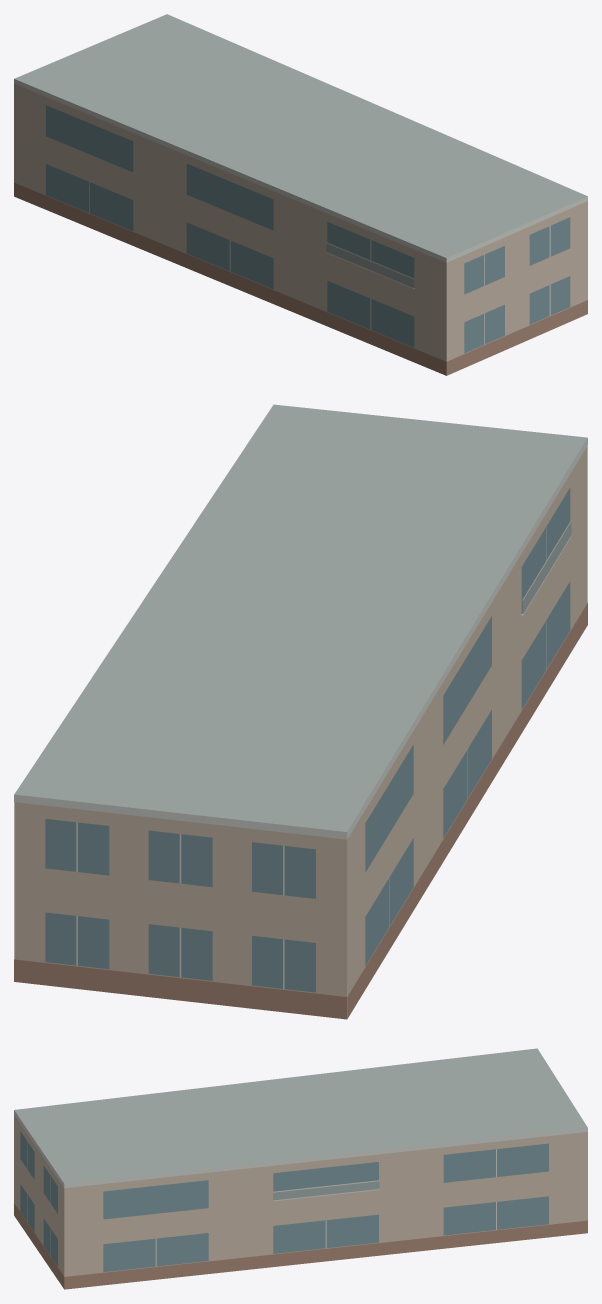
The model's file is survey-upis-32913387.glb.
3 views of the same model, one above another, from view 1: azimuth 30°, elevation 25°; view 2: azimuth 150°, elevation 25°; view 3: azimuth 270°, elevation 25° (orthographic). The views are drawn at different scales.
Parts seen in each view (by area): view 1: survey-upis-32913387.tmp; view 2: survey-upis-32913387.tmp; view 3: survey-upis-32913387.tmp.
Part boxes in pixels (bbox=[...]): survey-upis-32913387.tmp: bbox=[14, 14, 587, 375]; survey-upis-32913387.tmp: bbox=[14, 404, 587, 1019]; survey-upis-32913387.tmp: bbox=[14, 1048, 587, 1289].
Size of the model in its own units: 16.82 by 6.1 by 30.07.
